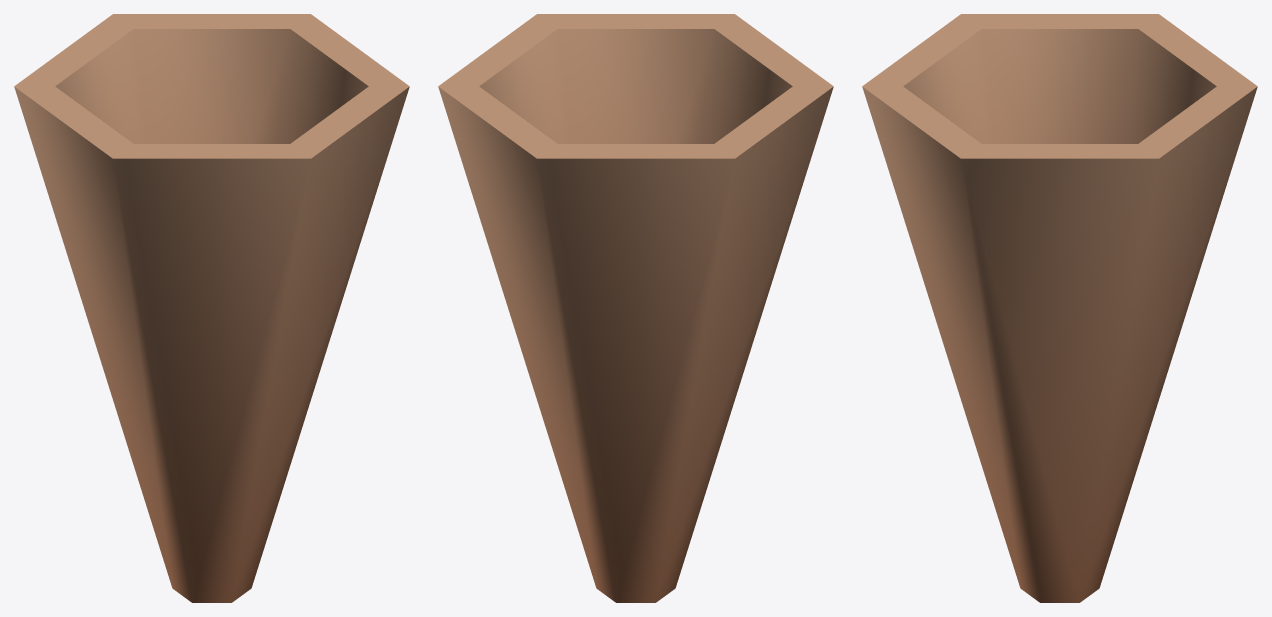
File: ice-cream-cne.glb
3 views of the same model, side by side, from view 1: azimuth 30°, elevation 25°; view 2: azimuth 150°, elevation 25°; view 3: azimuth 270°, elevation 25° (orthographic).
Visible parts, largest first — view 1: ice-cream-cne; view 2: ice-cream-cne; view 3: ice-cream-cne.
Boxes of the visible parts, box(x1,y1,x2,y2) form: ice-cream-cne: box(14, 14, 409, 602); ice-cream-cne: box(438, 14, 833, 602); ice-cream-cne: box(862, 14, 1257, 602).
Bounding box in the file's own units: 0.1845 × 0.2982 × 0.213.
